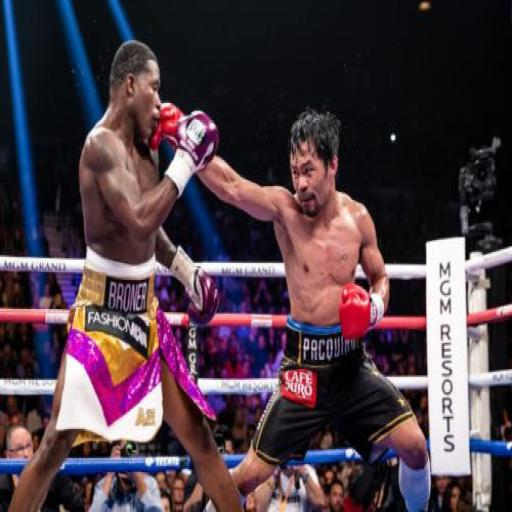boxing: (151, 100, 433, 510), (5, 38, 244, 510)
